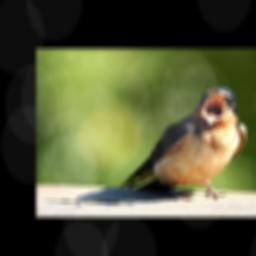Swallow: (119, 87, 249, 200)
